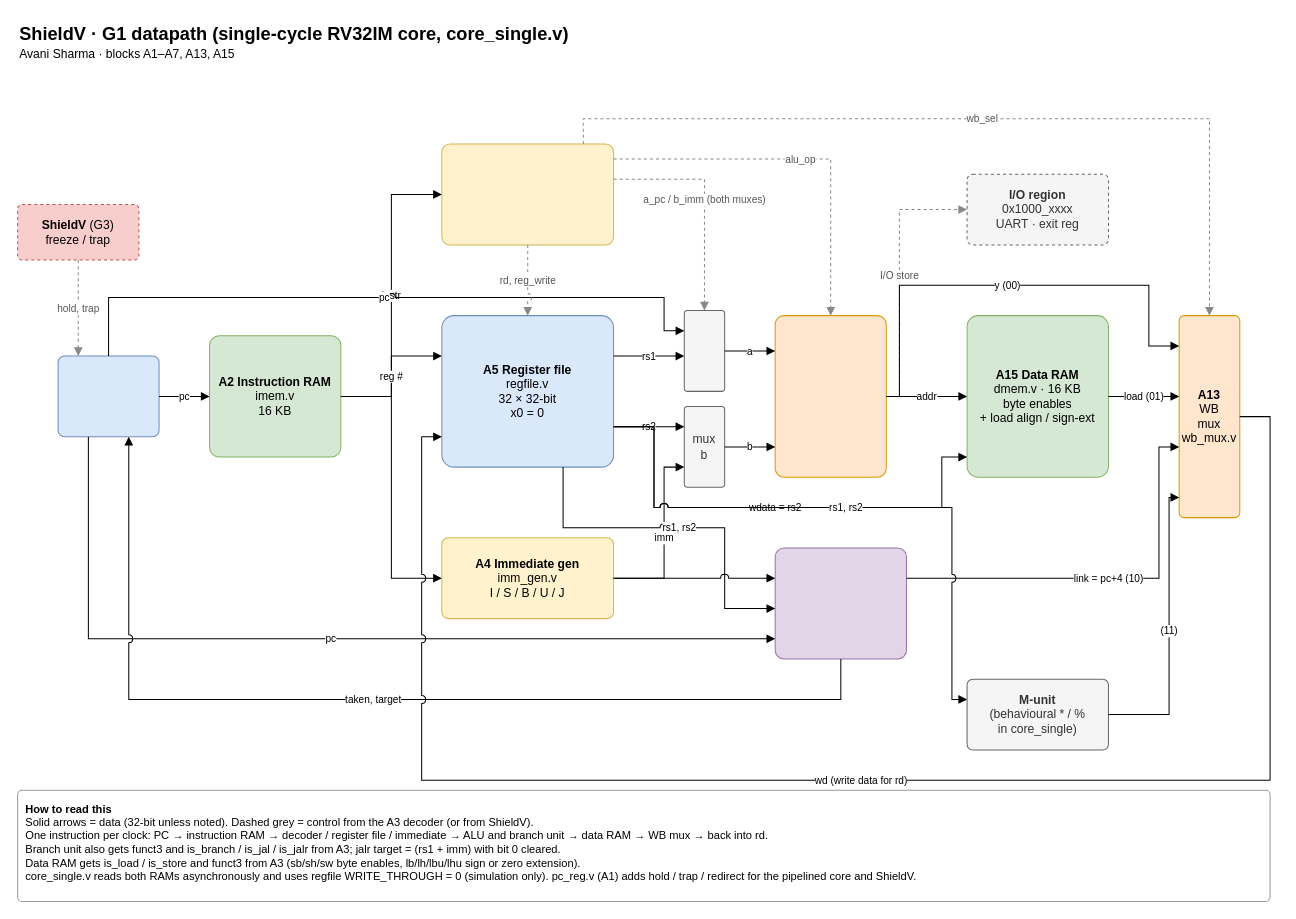
The diagram is 1296 pixels wide and 919 high, and some of its shapes have lost their labels. The centre of each missing label's shape, as x and y in pixels:
A1 PC pc_reg.v: pixel 108 396
A3 Decoder decoder.v instr → control word: pixel 527 194
A6 ALU alu.v op = {f7[5], f3}: pixel 830 396
A7 Branch unit branch_unit.v taken · target · link: pixel 840 603
mux a: pixel 704 350
